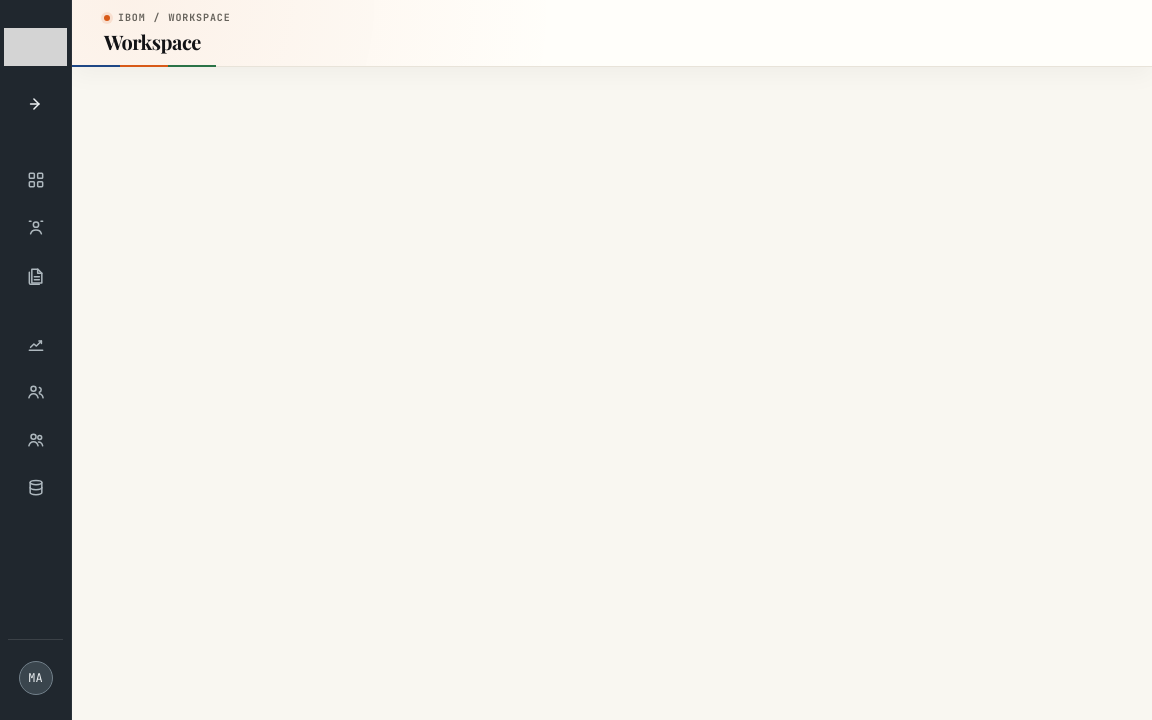
ApplicationShellComponent › opens the collapsed Master Data rail menu with real child routes
Click the button with class "nav-parent" at (36, 488), box [8,466,63,510]
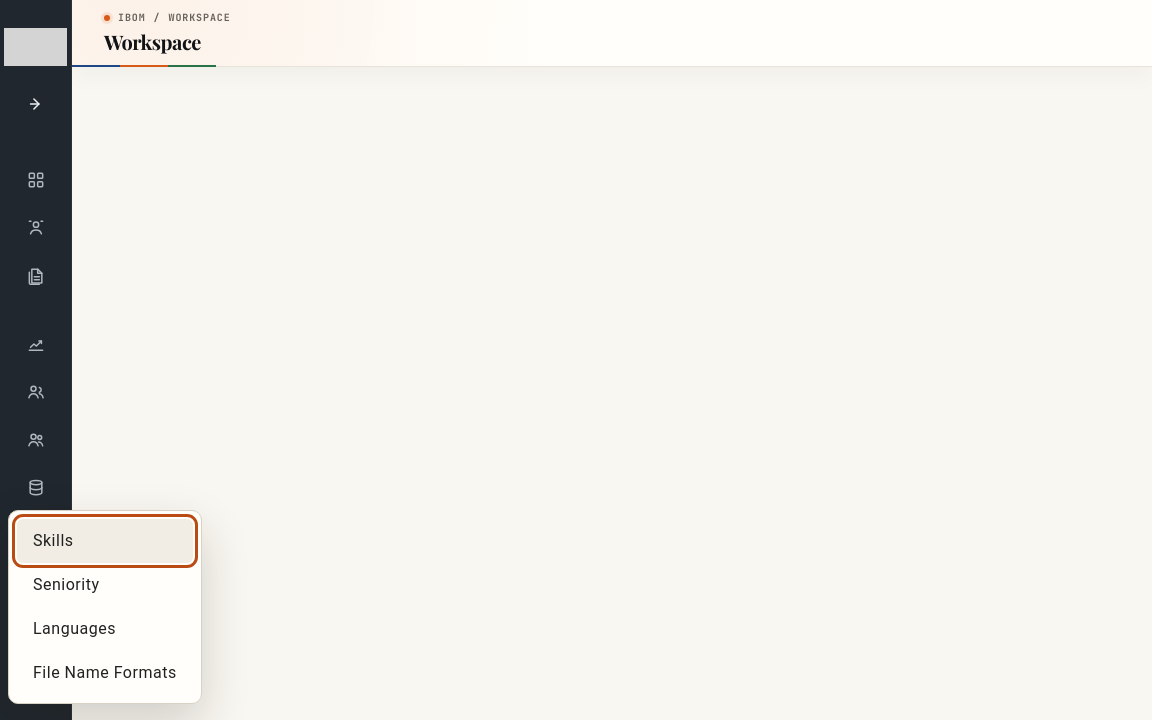
Expected: the menu is shown, [8,510,202,704]
Expected: the menu item to "/master-data/skills" is shown, [17,519,193,563]
Expected: the menu item to "/master-data/file-name-formats" is shown, [33,663,177,682]
